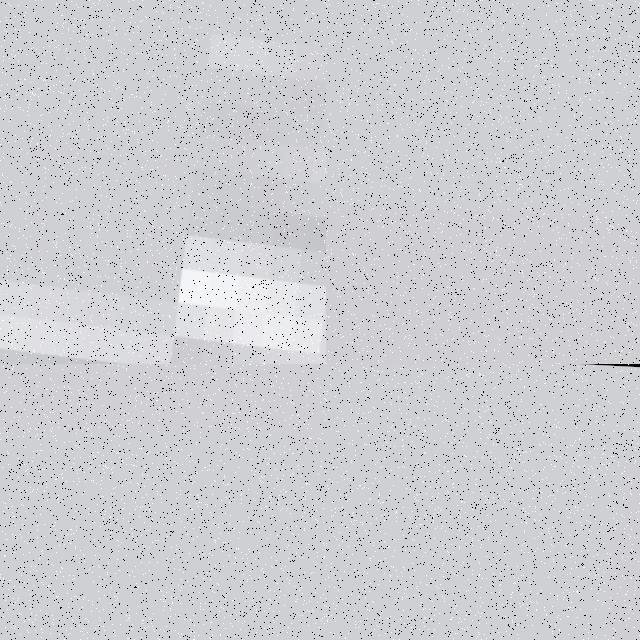drone: (0, 0, 326, 364)
